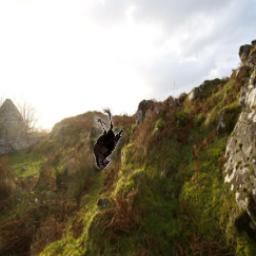Crow: (93, 108, 123, 170)
